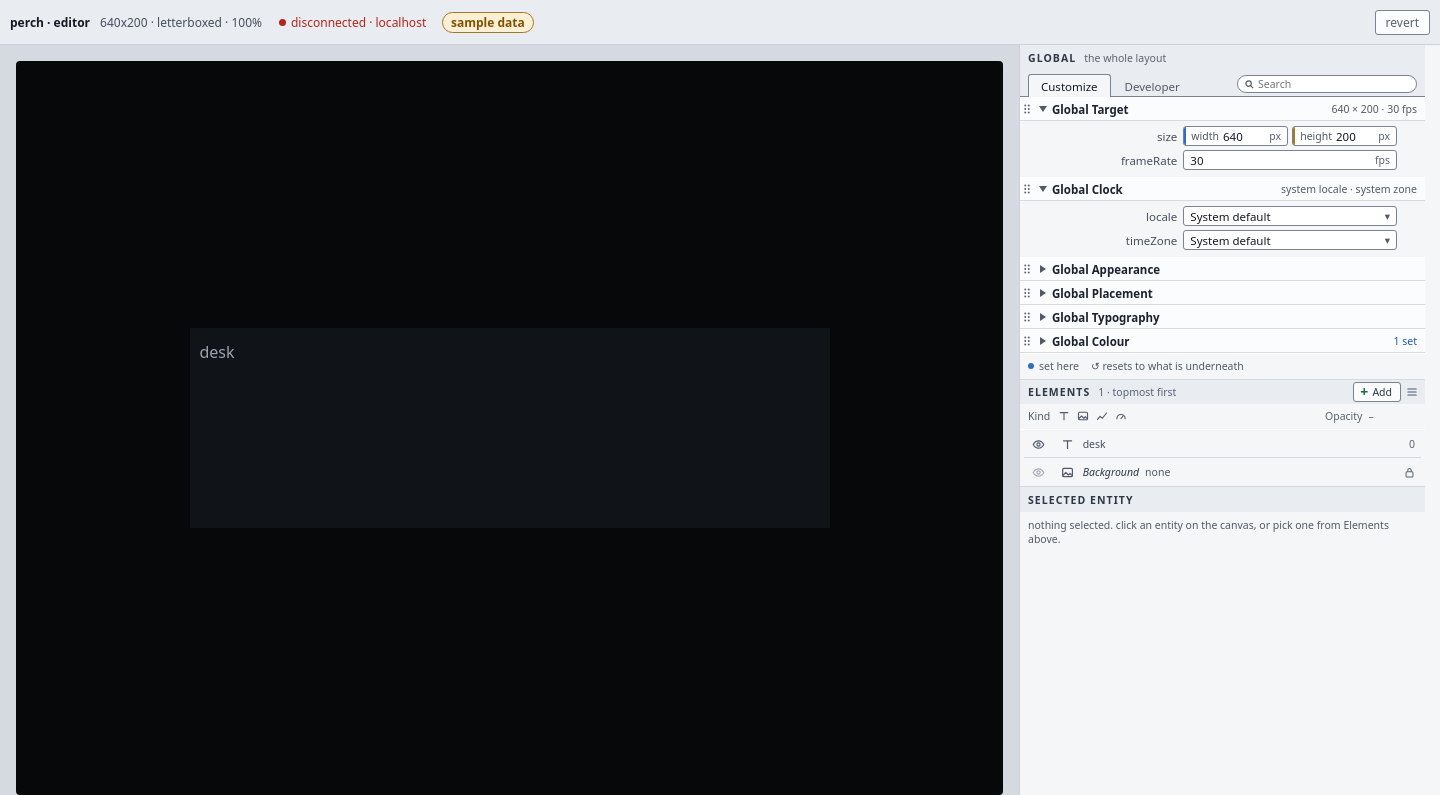
Test: Save, from the keyboard and the menu › Mod+S saves the open document through the transport, even from inside a field
Click the button "desk 0".
click(1067, 444)  # box [1052, 430, 1421, 458]
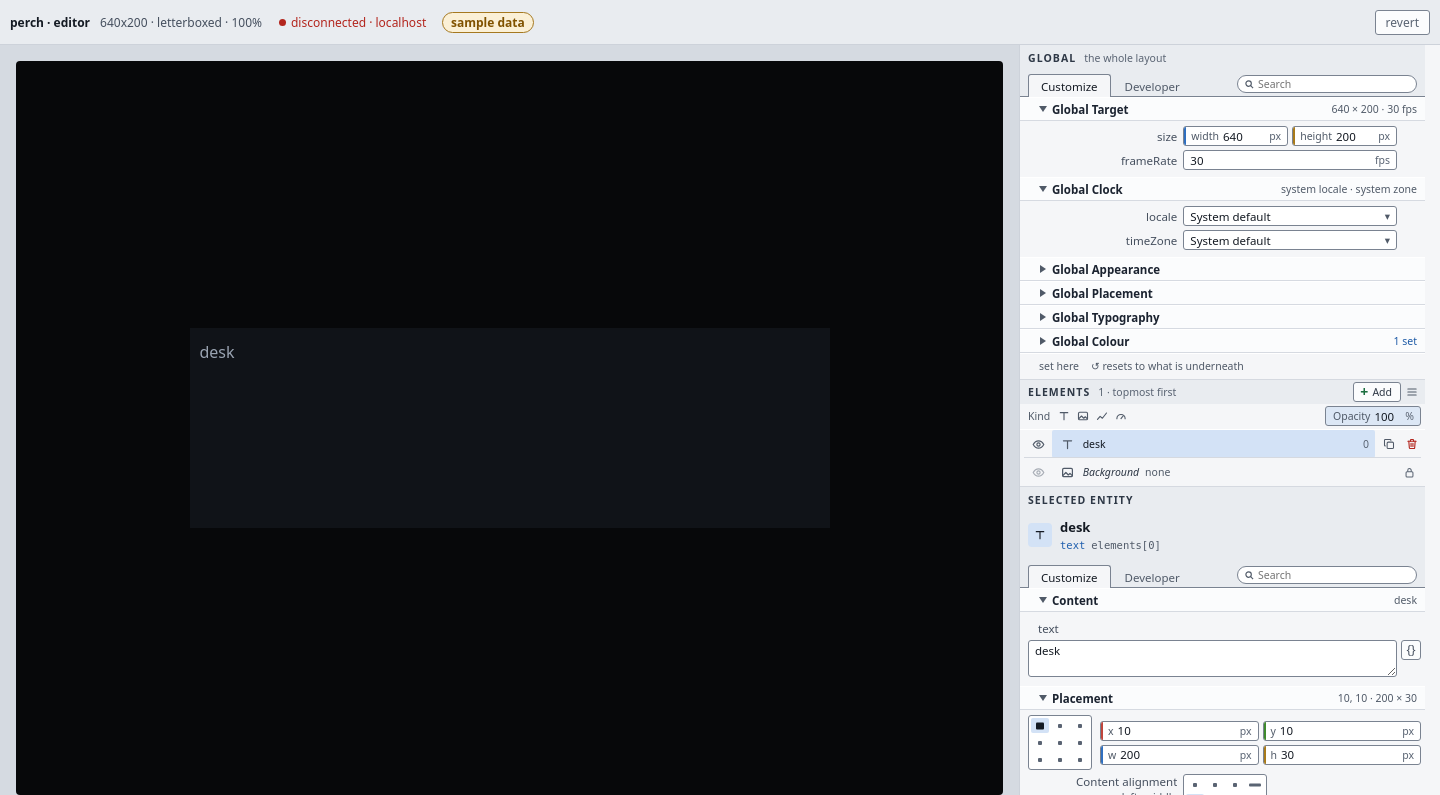
Replace the text in the number field labelled "w" with "150" at (1179, 755), box [1118, 746, 1240, 764]
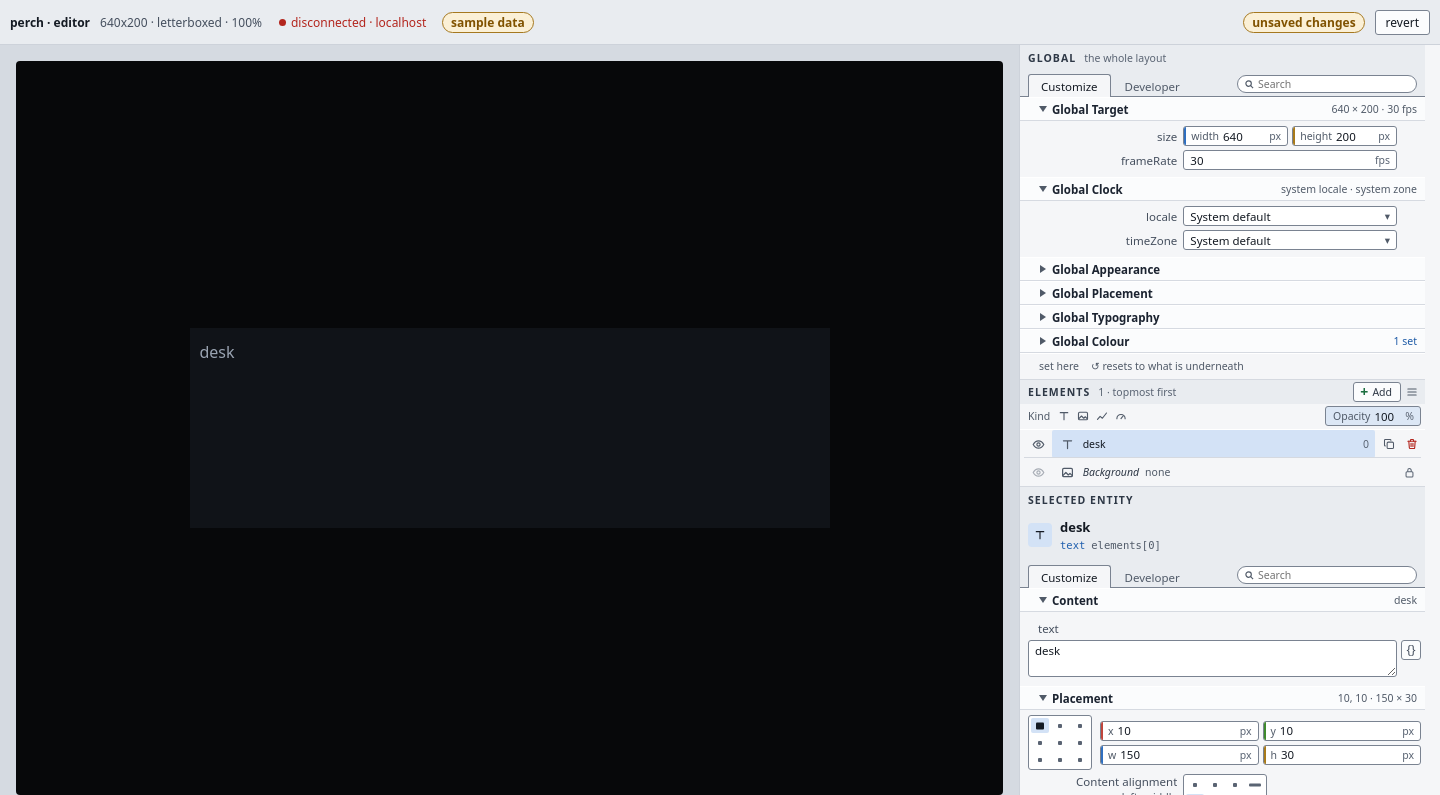
Press s in the number field labelled "w", box [1118, 746, 1240, 764]
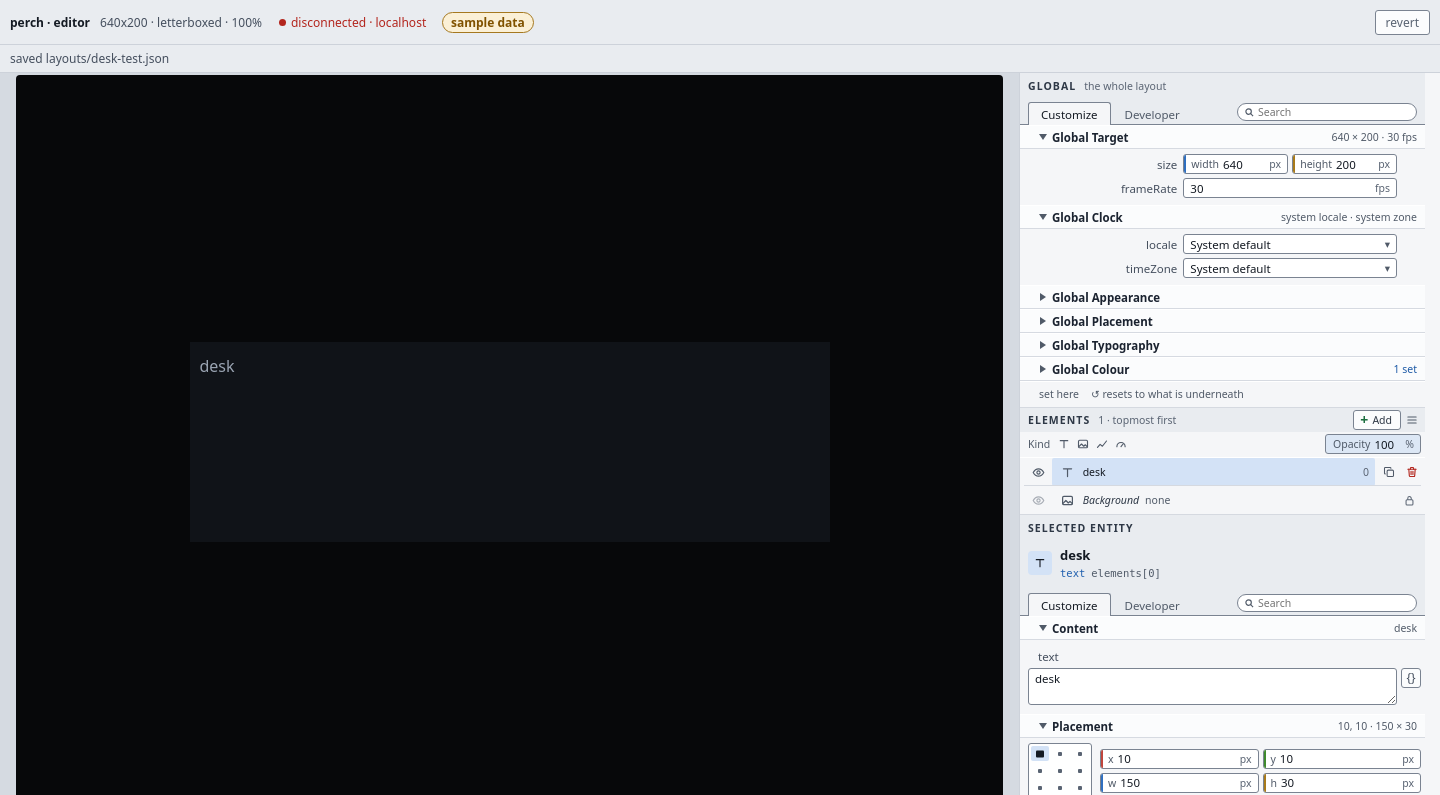
Check: the text "saved layouts/desk-test.json" is shown, box [0, 45, 1439, 73]
